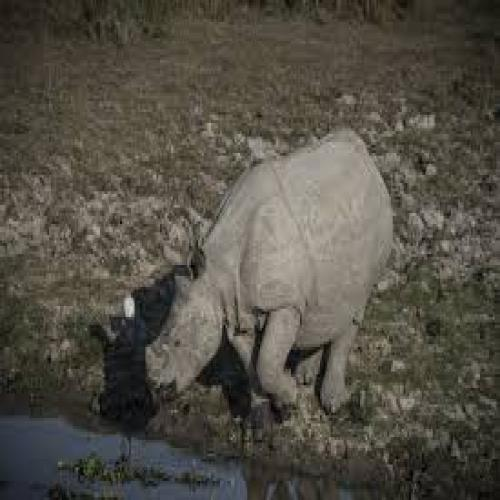rhino-endangered: (146, 125, 394, 416)
